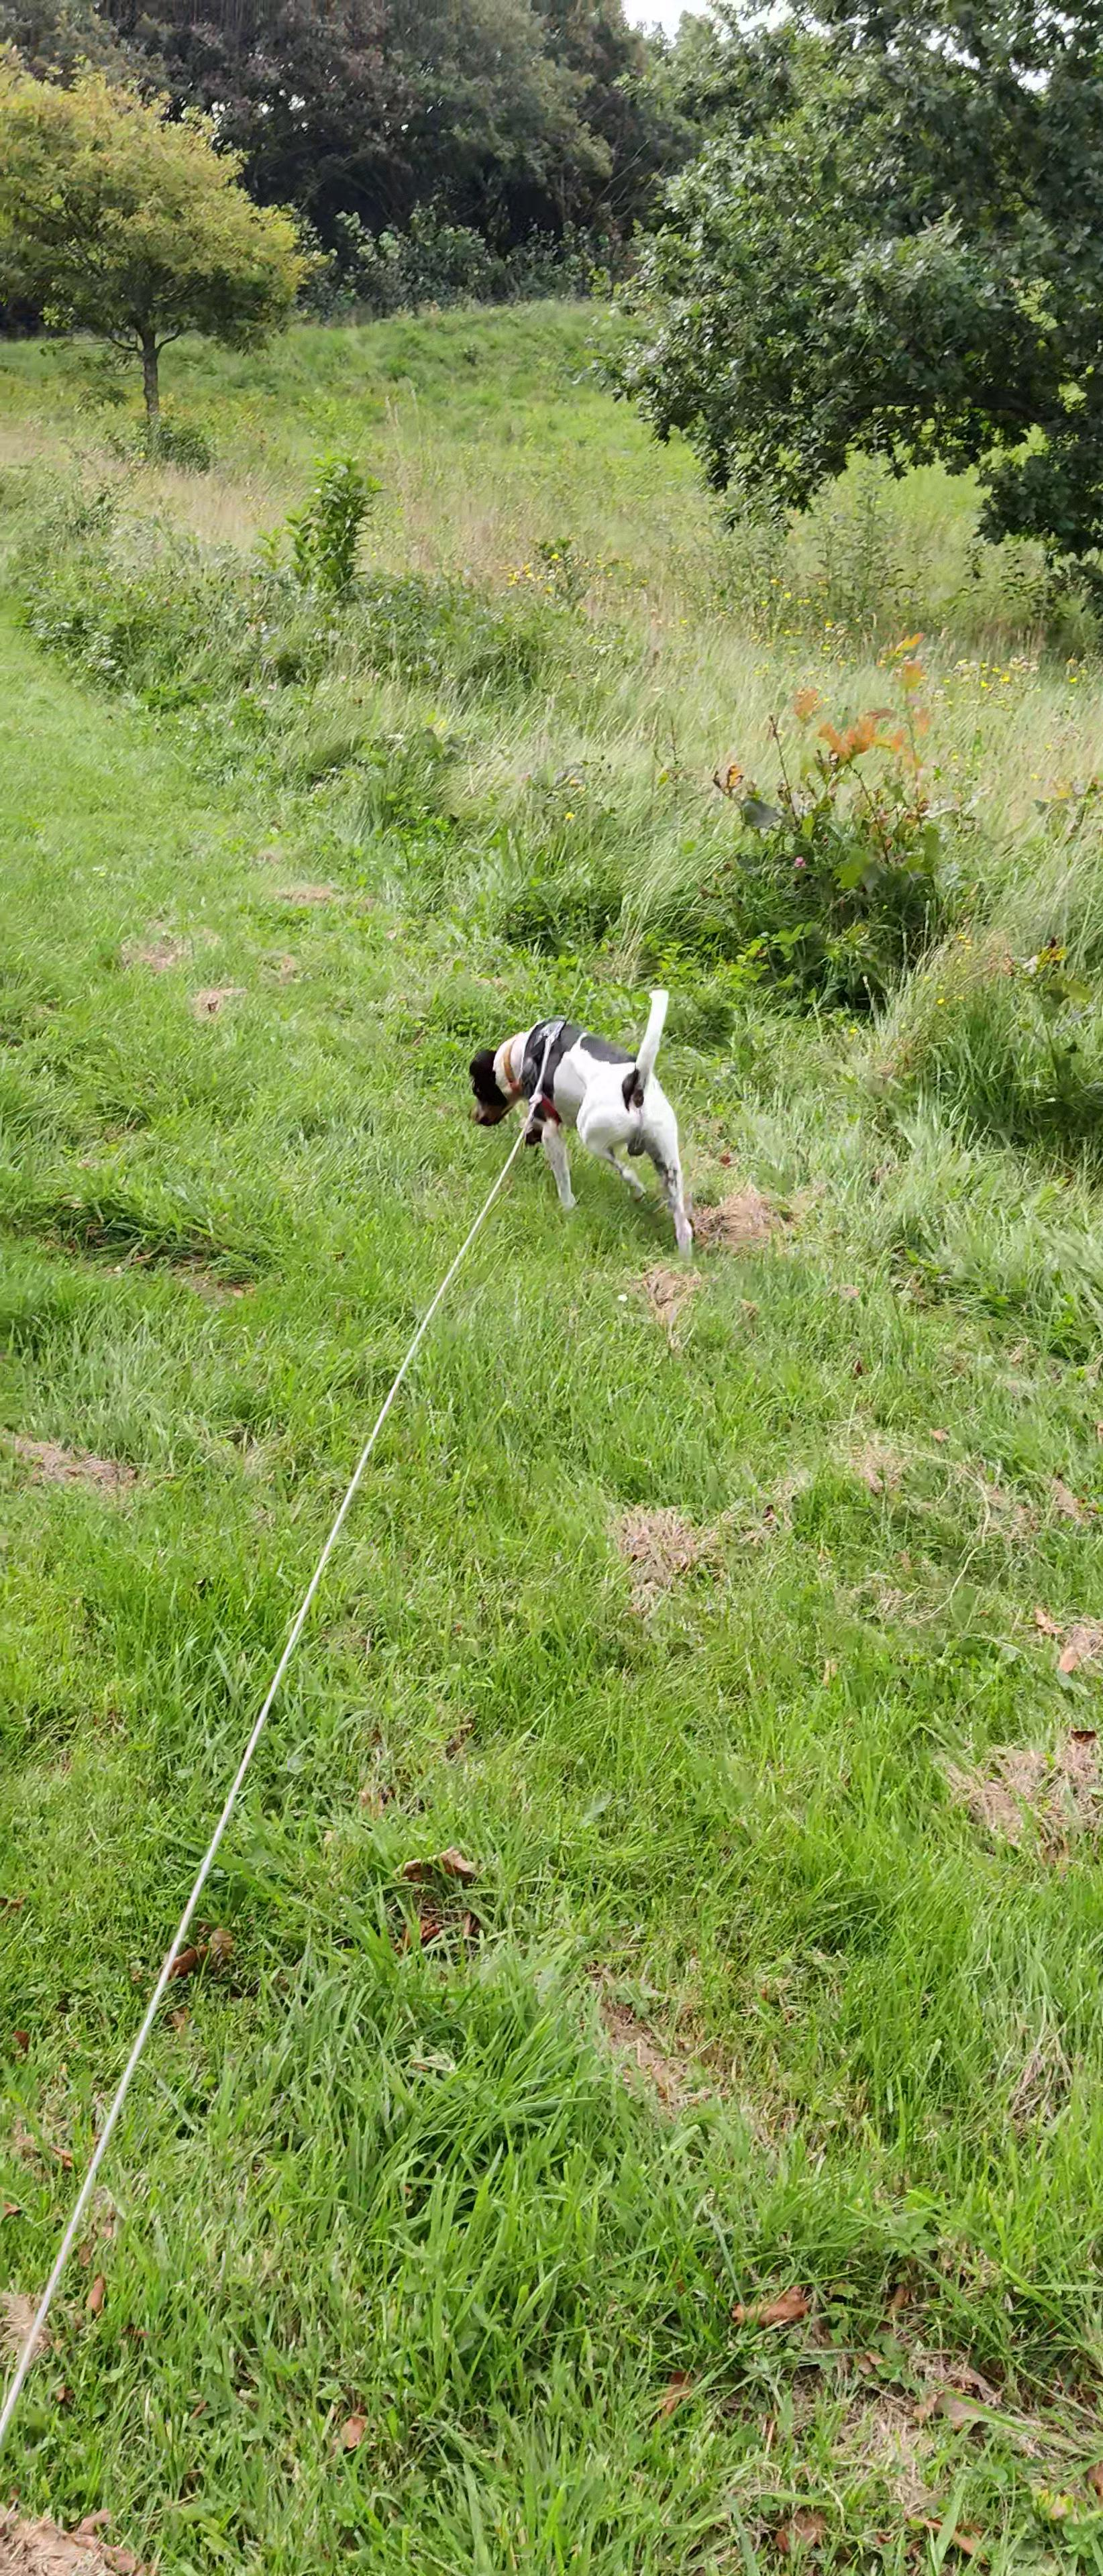Dog: (464, 981, 710, 1267)
